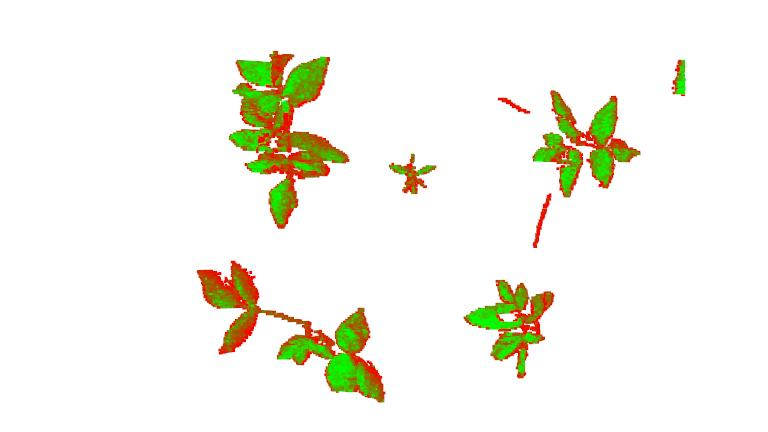mungbean: (198, 256, 393, 409), (226, 49, 341, 228), (530, 86, 641, 199), (464, 273, 552, 381)
